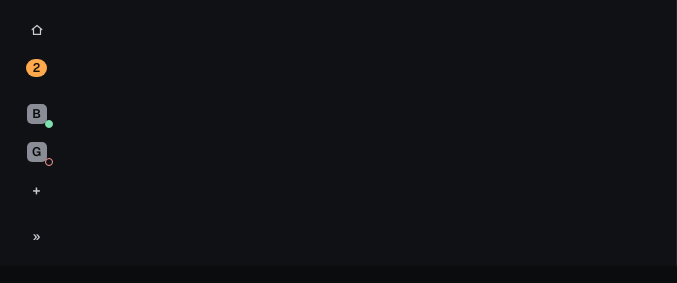
Test: Sidebar › the_rail_needs_you_tooltip_shows_the_next_needs_you_shortcut
Hover over the button named "Needs you: 2 waiting".
mouse_move(36, 68)  # box [16,50,56,86]
Wait 400 ms
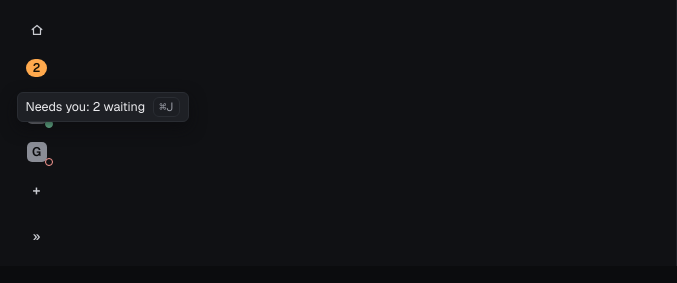
Check: the element with class "tooltip" reads "Needs you: 2 waiting ⌘J", box [16,92,189,122]
